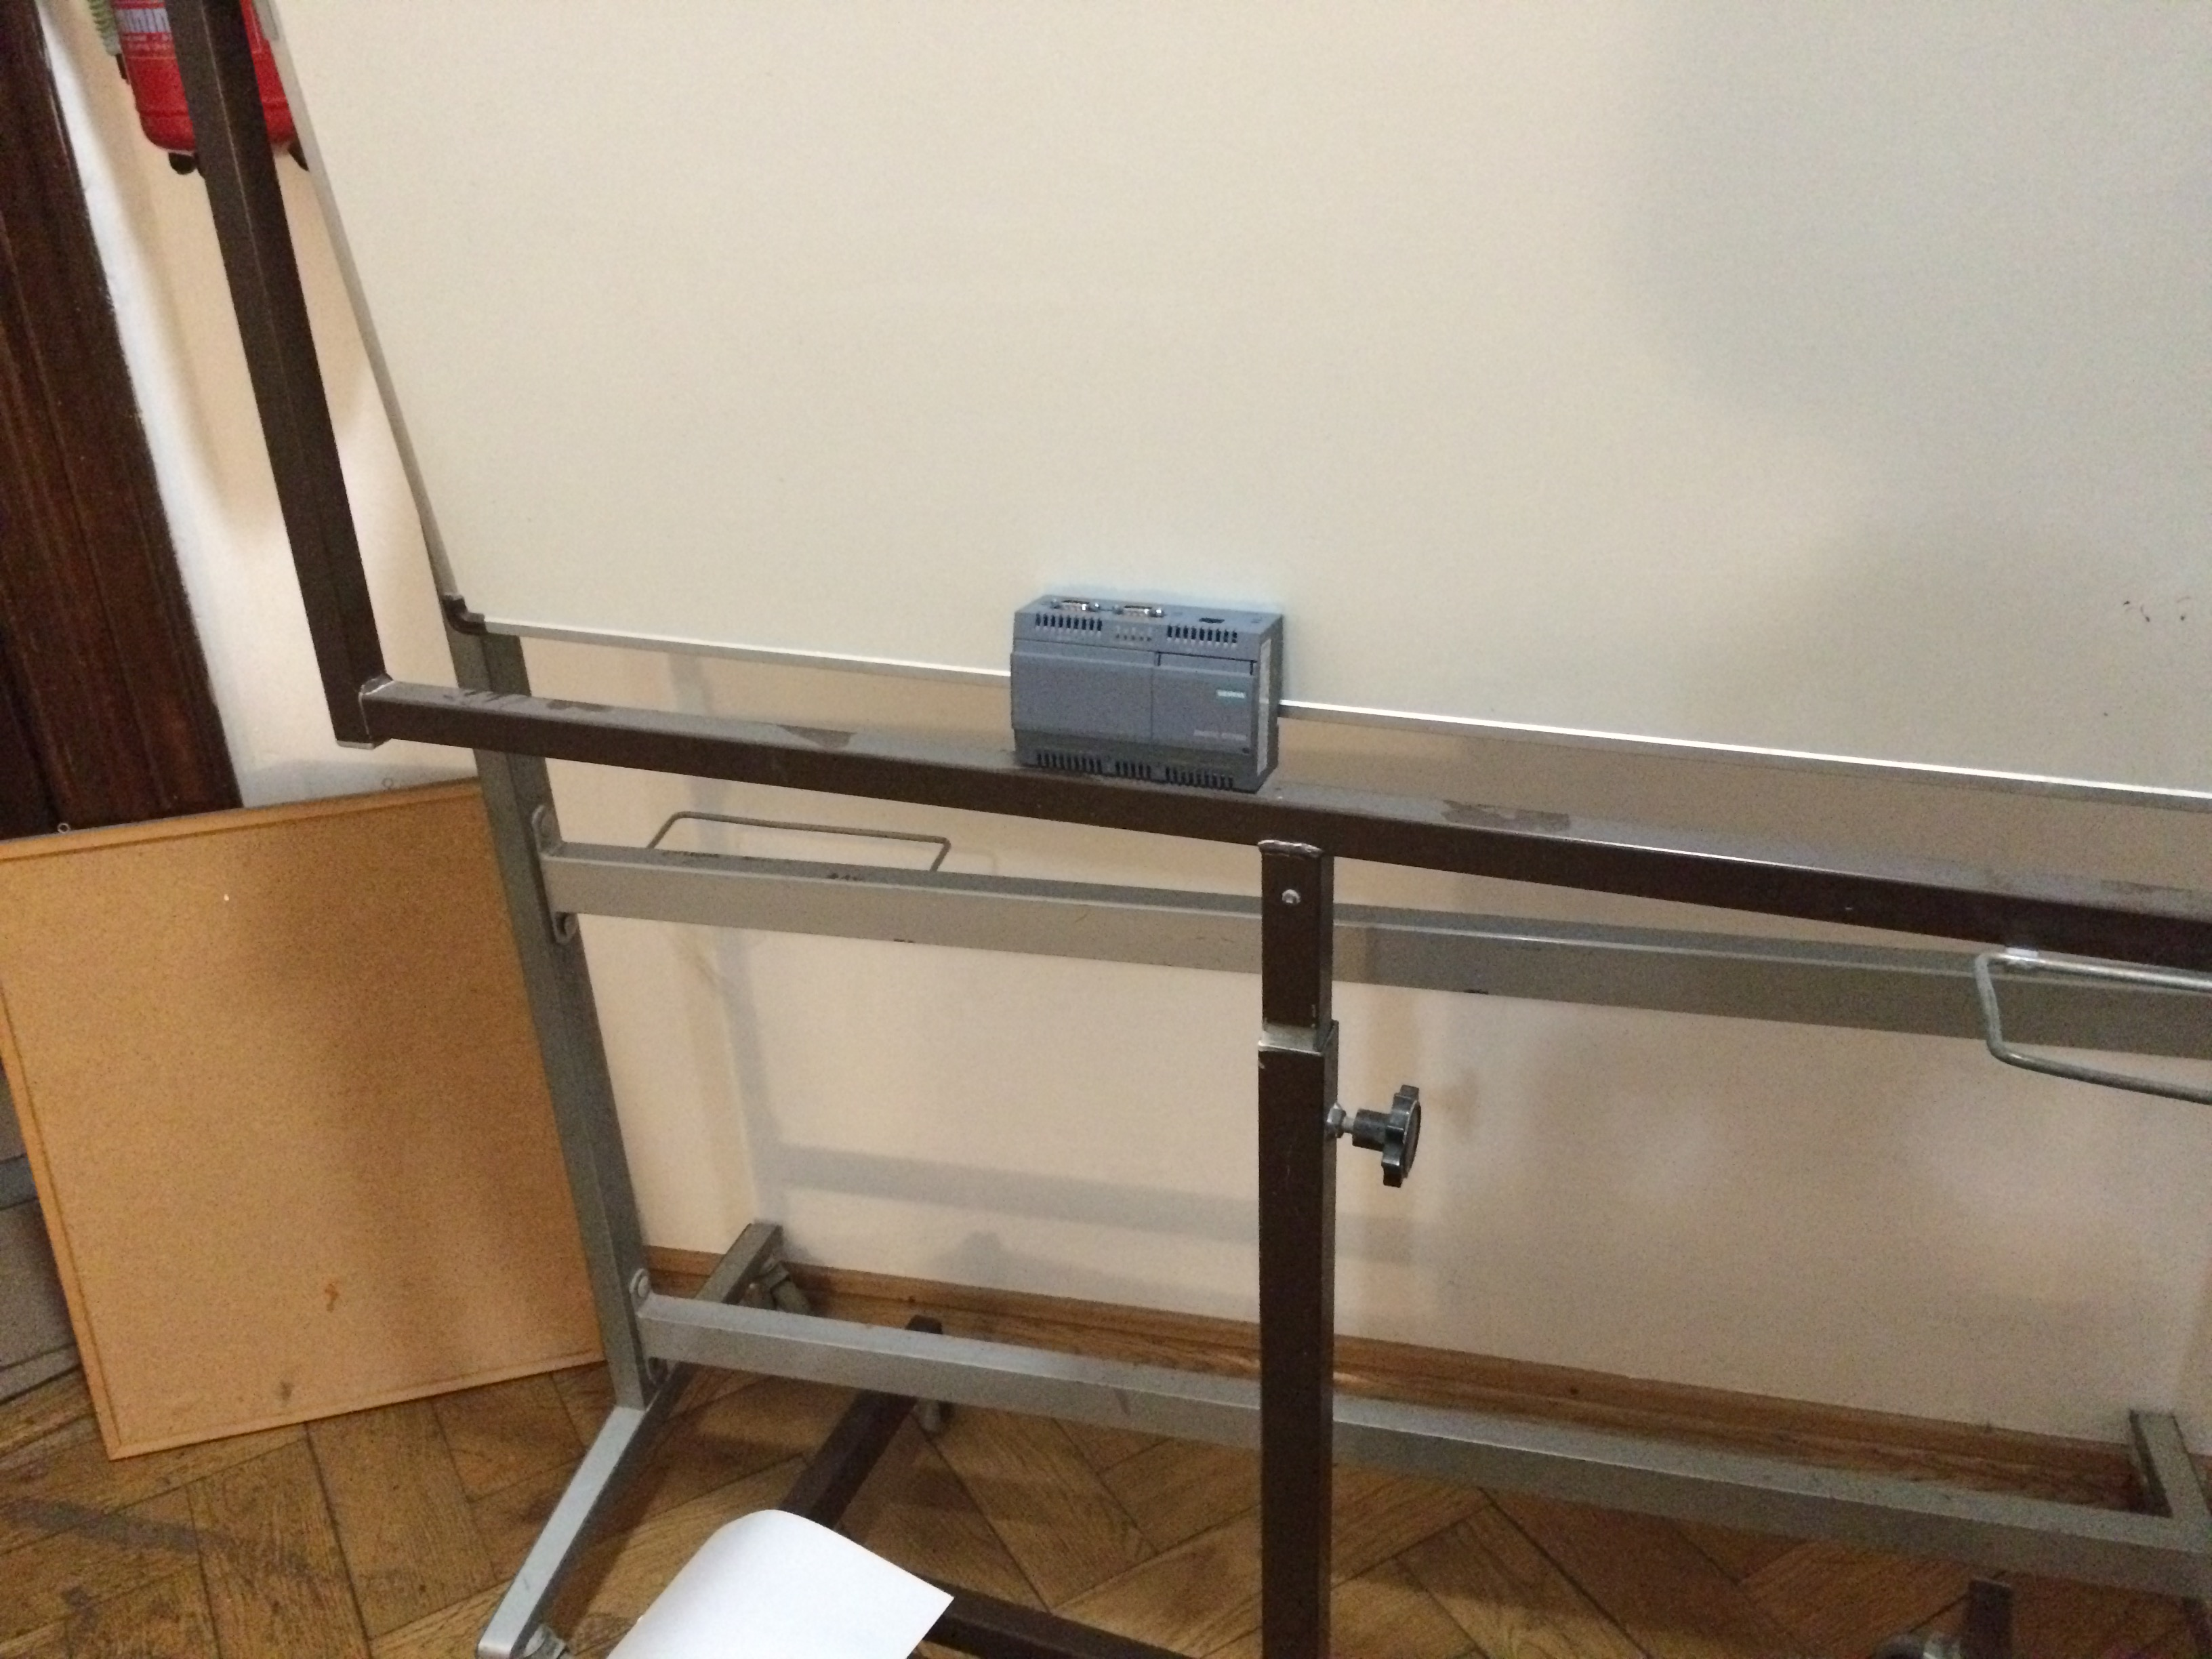iot2000: (1008, 591, 1285, 798)
